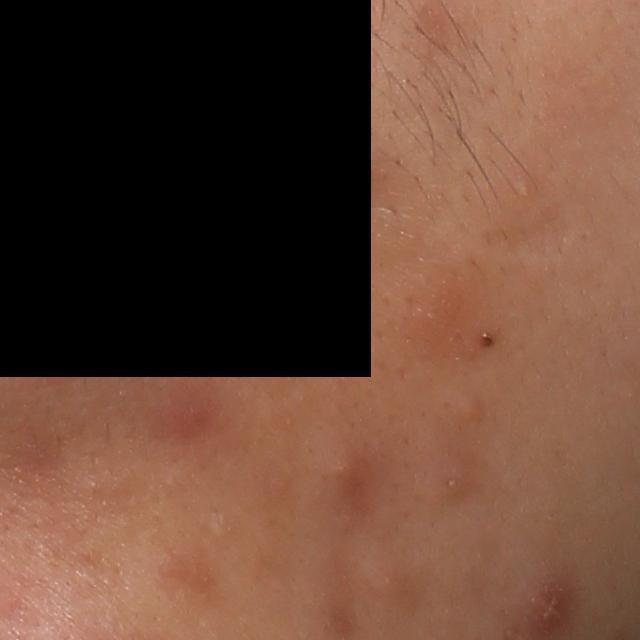comedo: (455, 392, 487, 425)
nevus: (481, 332, 495, 352)
papule: (415, 444, 490, 508), (319, 446, 369, 506), (407, 285, 455, 339)
